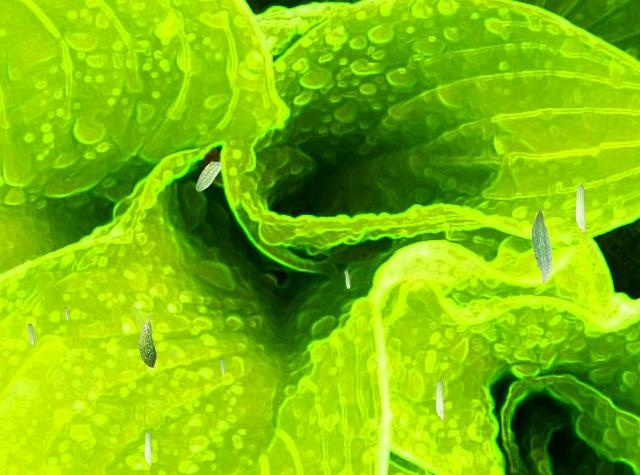ampalaya: (531, 208, 553, 284), (137, 313, 157, 368), (195, 161, 222, 191), (575, 183, 586, 233), (435, 379, 444, 421), (144, 430, 152, 466), (27, 323, 35, 344), (344, 269, 350, 288), (219, 357, 225, 374), (64, 306, 69, 320)
